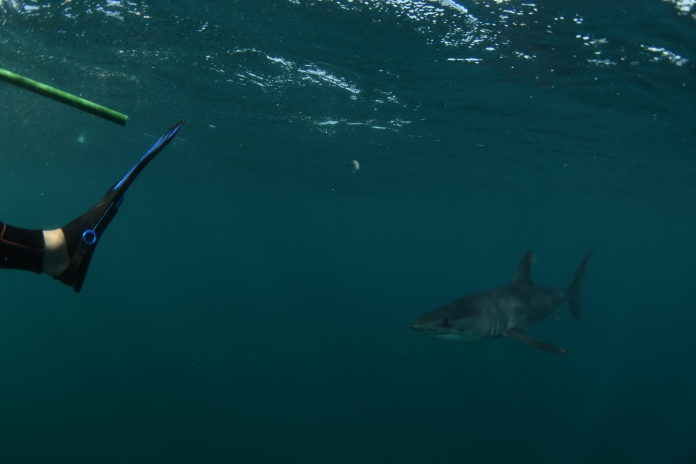Mako: (404, 241, 603, 363)
